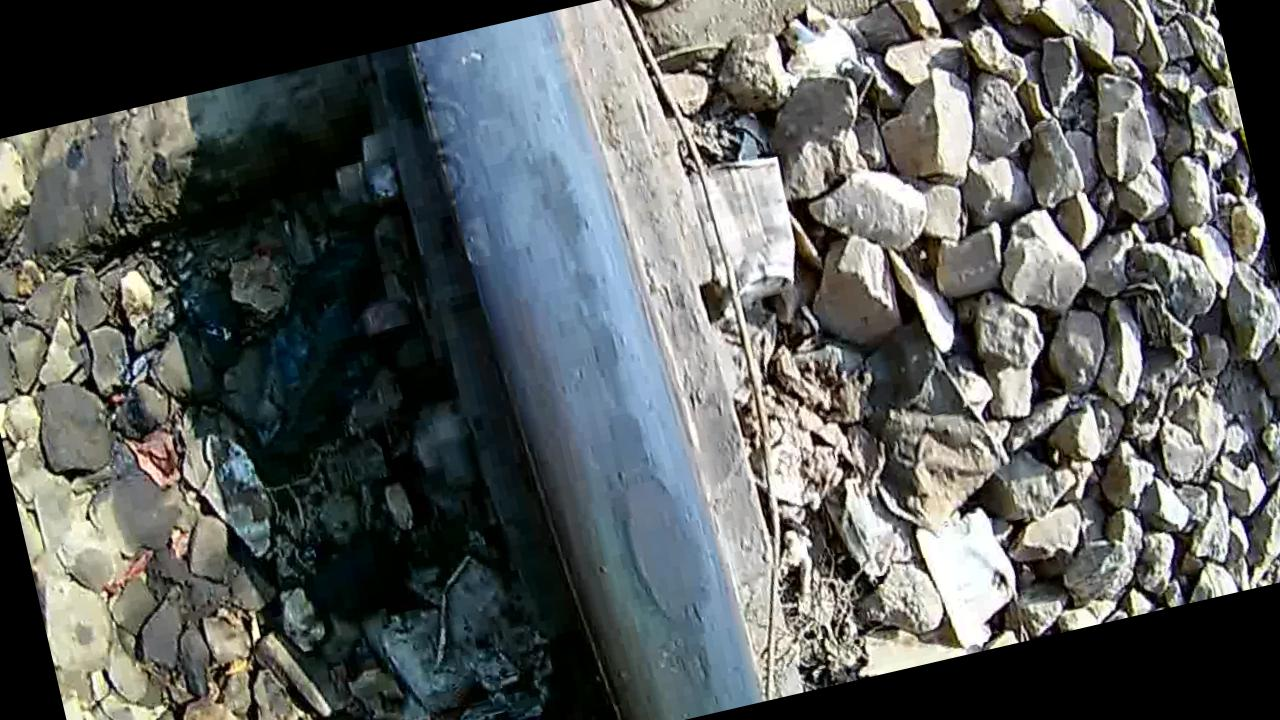bolt_missing: (409, 20, 771, 720)
